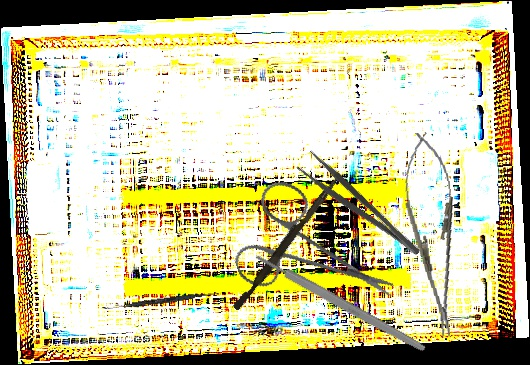Dressing Forceps: (295, 148, 423, 268)
Iris Scissors: (214, 156, 397, 343)
Needle Holder: (396, 129, 470, 341)
Pusher: (232, 168, 343, 314)
Scalpel Handle: (253, 250, 428, 355)
Spatula Surgical: (102, 288, 219, 314)
